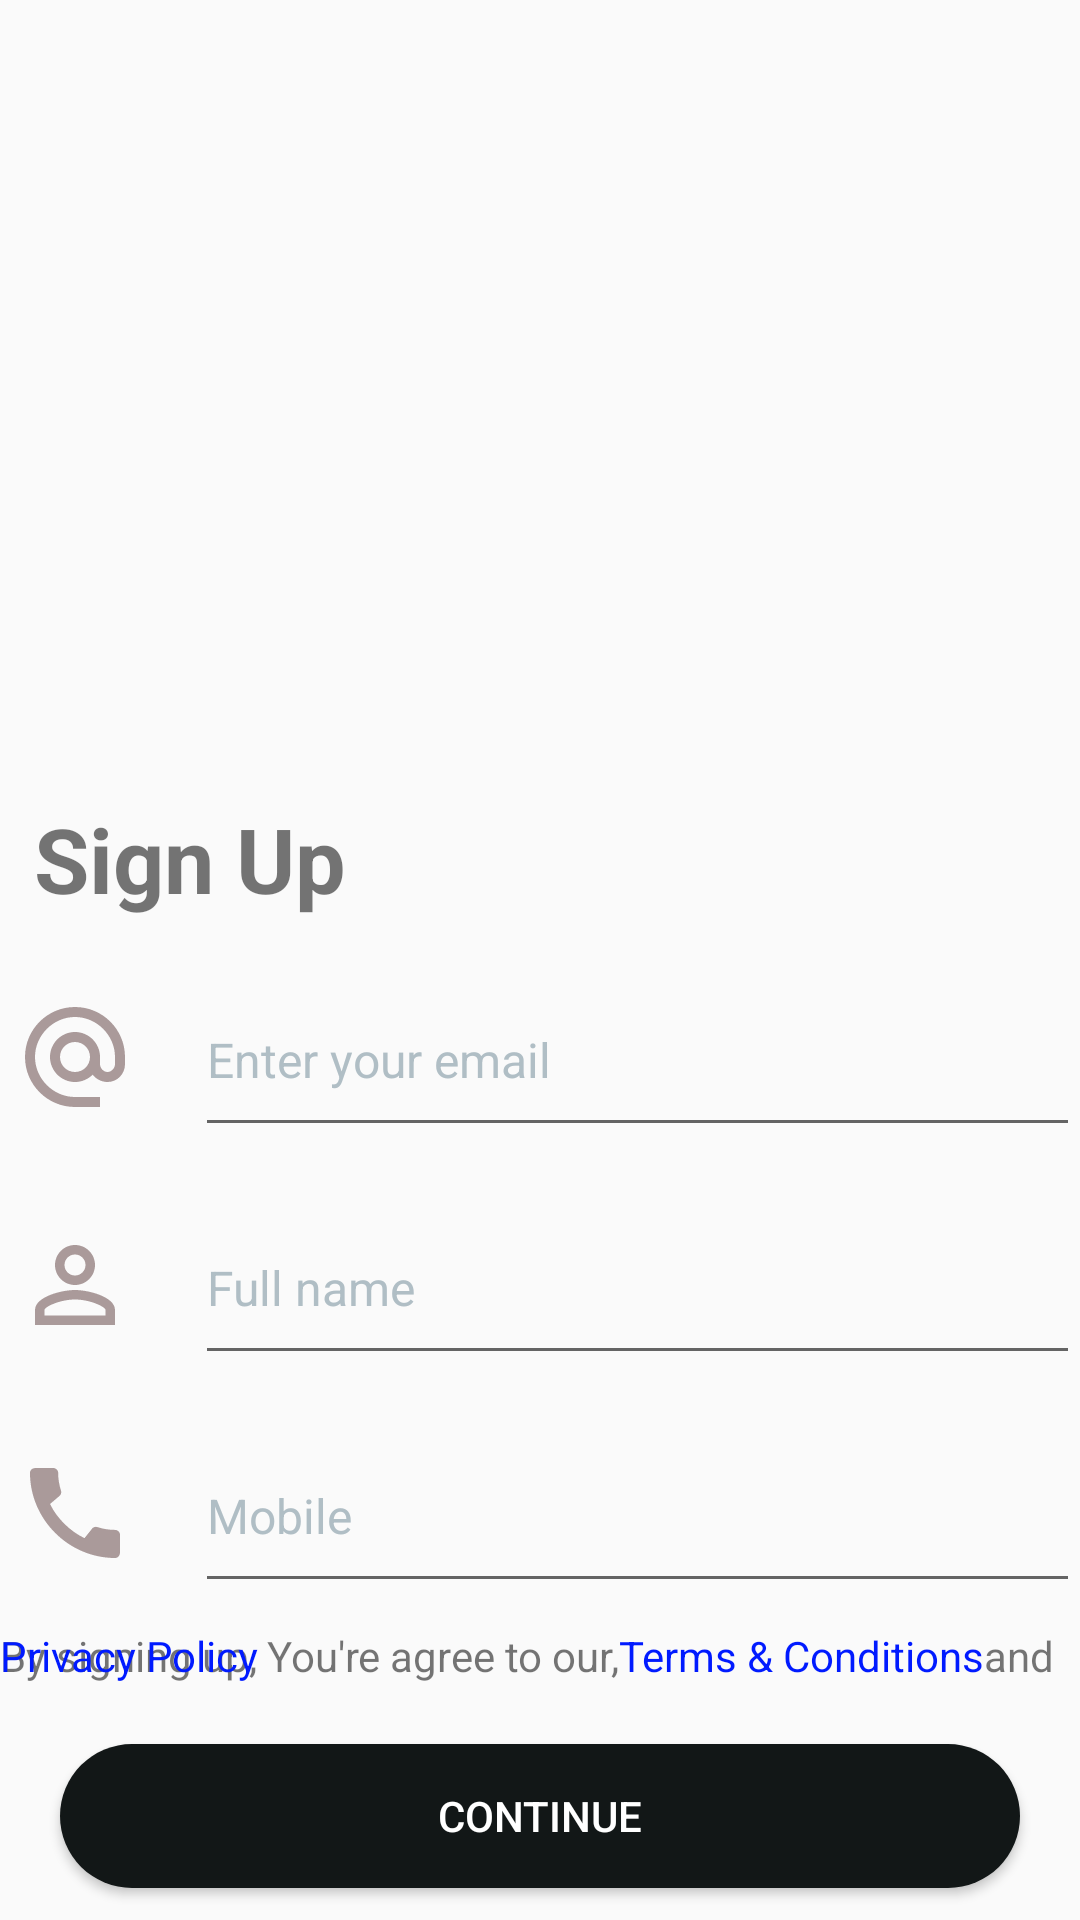

Point at icon controls on the screen. Image size 1080×1920, points as point (x, y).
call: point (75, 1513)
person: point (75, 1285)
symbol email: point (75, 1057)
